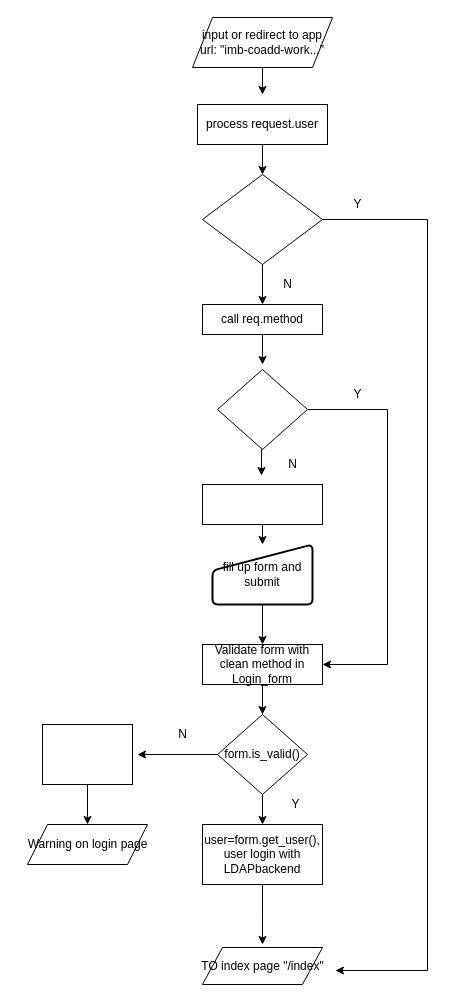
Image size: 453x1002. Some labels were removed from this diagram. The shapes that lost their labels are listed below. From the top down, each one's box as (x1, y1, x2, y2) in pixels, then its label:
(202, 174, 322, 264): is_authenticated?
(216, 368, 308, 450): req.mehtod=='POST'
(202, 484, 322, 524): Render login.html with Login_form
(42, 724, 132, 784): generate message report error on login page
